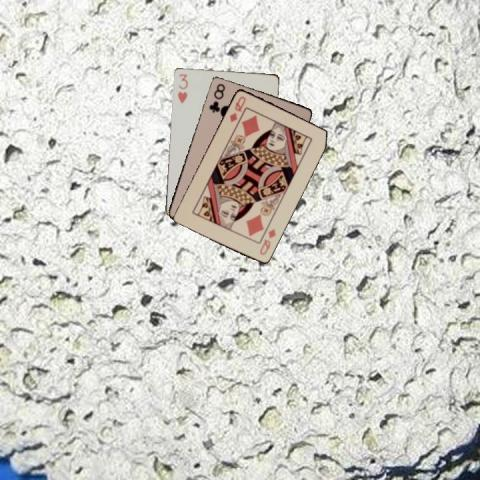3h: (174, 70, 188, 104)
8c: (206, 80, 227, 114)
Qd: (257, 225, 277, 257), (226, 93, 247, 123)
